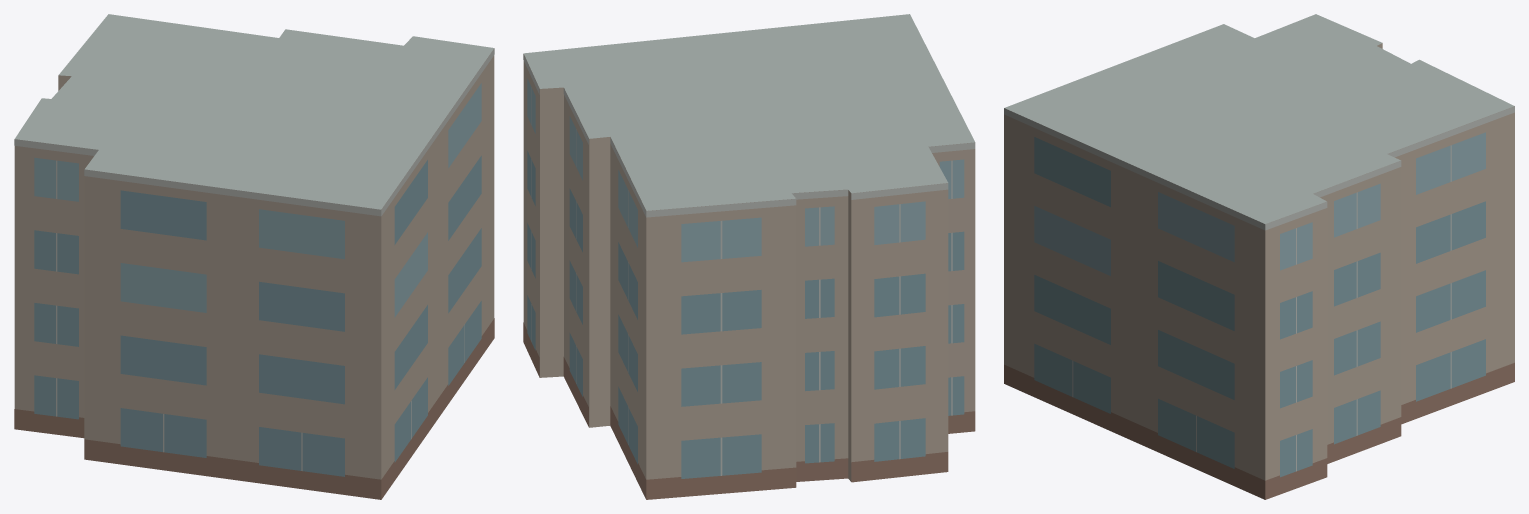
Rendered from survey-upis-33045508.glb.
3 renders of one model, left to right at view 1: azimuth 30°, elevation 25°; view 2: azimuth 150°, elevation 25°; view 3: azimuth 270°, elevation 25°, orthographic. The views are drawn at different scales.
Visible parts, largest first — view 1: survey-upis-33045508.tmp; view 2: survey-upis-33045508.tmp; view 3: survey-upis-33045508.tmp.
Part boxes in pixels (x1,y1,x2,y2): survey-upis-33045508.tmp: (14,14,494,499); survey-upis-33045508.tmp: (523,14,975,499); survey-upis-33045508.tmp: (1004,14,1514,499).
Size of the model in its own units: 17.34 by 10.6 by 17.8.
